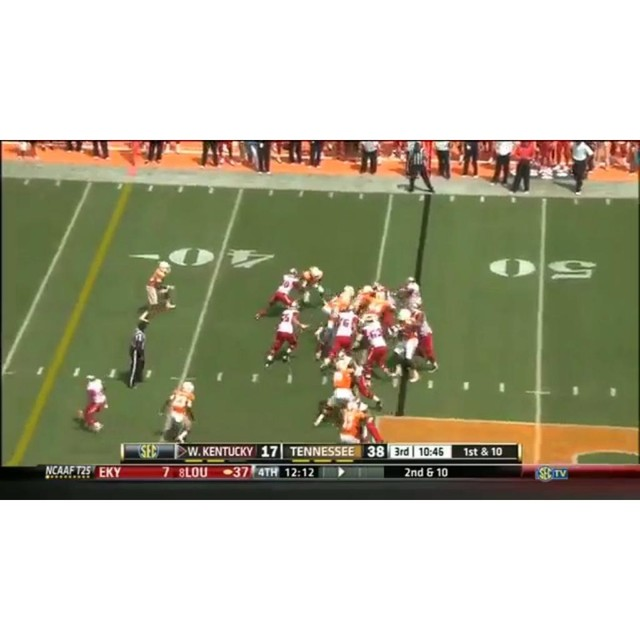american-football-player: (266, 301, 306, 369), (255, 267, 301, 322), (158, 382, 196, 442), (393, 309, 423, 383), (360, 314, 392, 377), (79, 375, 108, 432), (330, 306, 358, 362), (329, 360, 357, 408), (299, 266, 326, 303)
referee: (126, 320, 148, 389)
